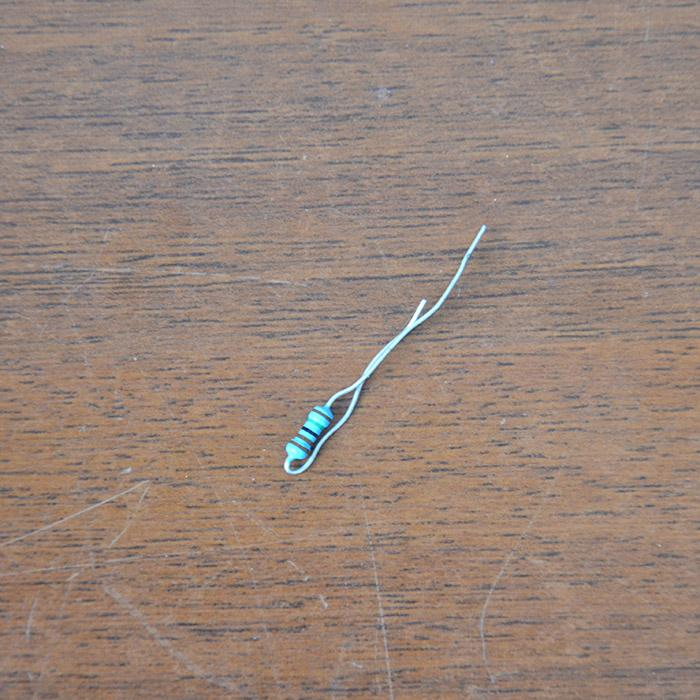resistor: (285, 402, 335, 463)
